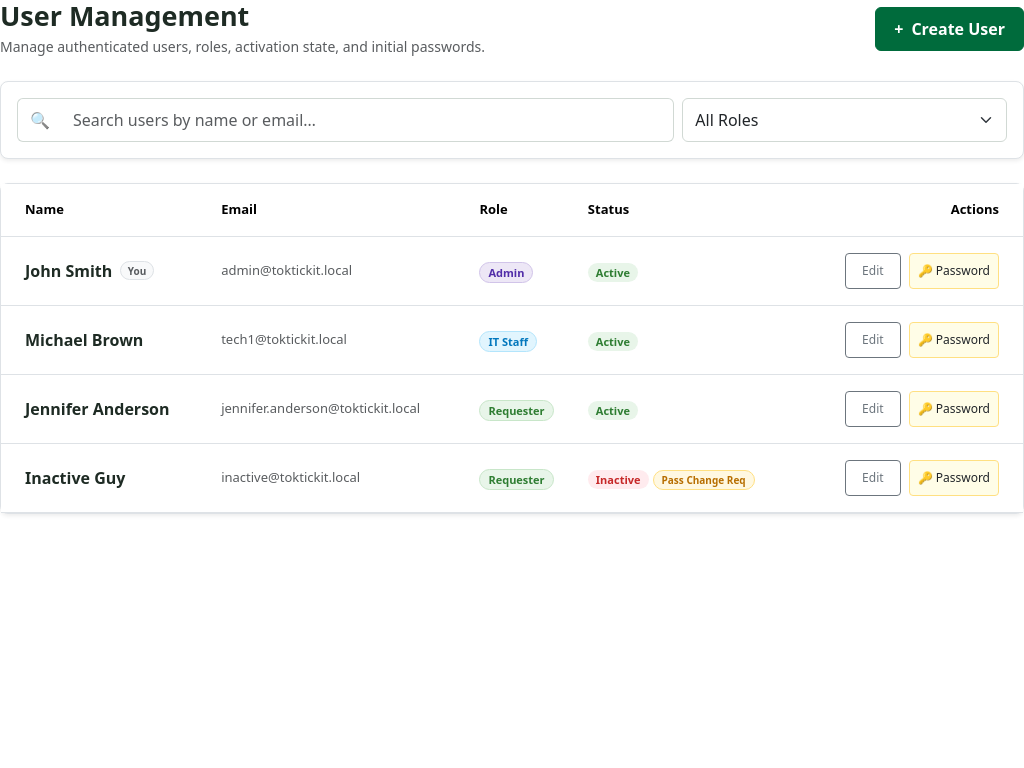
it: UI-05: Administrator User Management UI Component Tests › opens Edit User modal, updates user, and enforces self-deactivation guardrail
Expected: the text "John Smith" is shown, [25,259,112,283]
// Click Edit on John Smith (the logged-in admin)
Click the button with id "edit-user-btn-1". click: (873, 271)
box: [845,253,901,289]
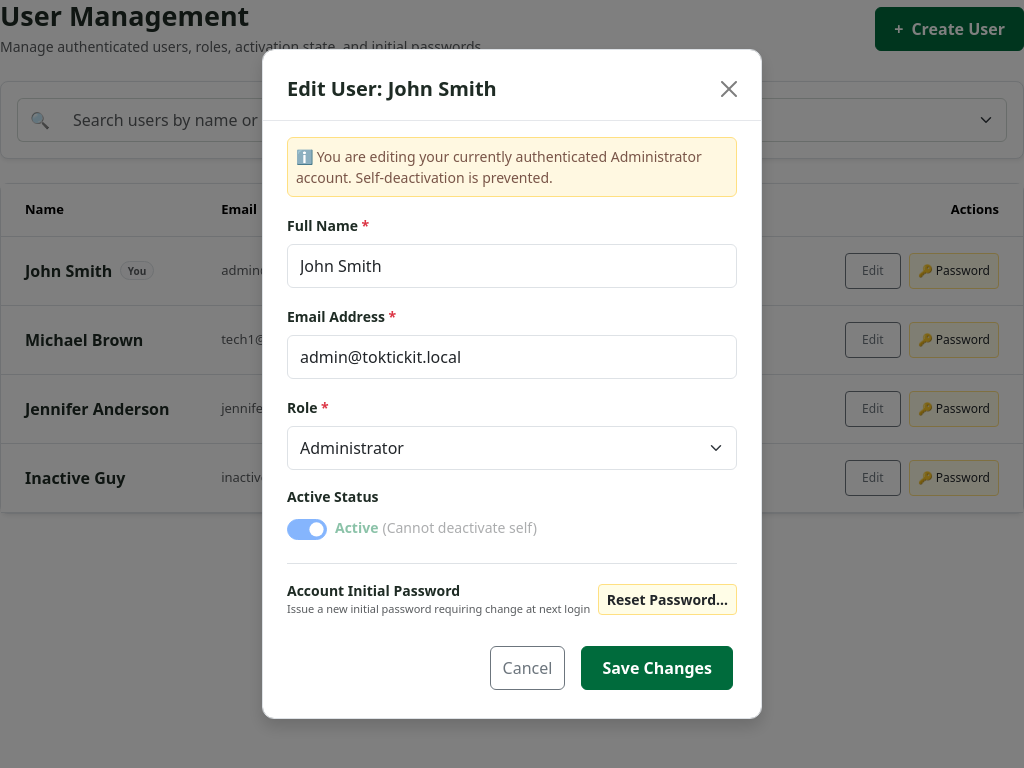
Now the heading "Edit User: John Smith" is shown, box [287,74,497,104]
Now the text "self-deactivation is prevented" is shown, box [296,147,702,187]
Now the switch is disabled, box [287,519,327,540]
// Close modal
Click the button "Cancel". click: (528, 668)
box: [490,646,565,690]
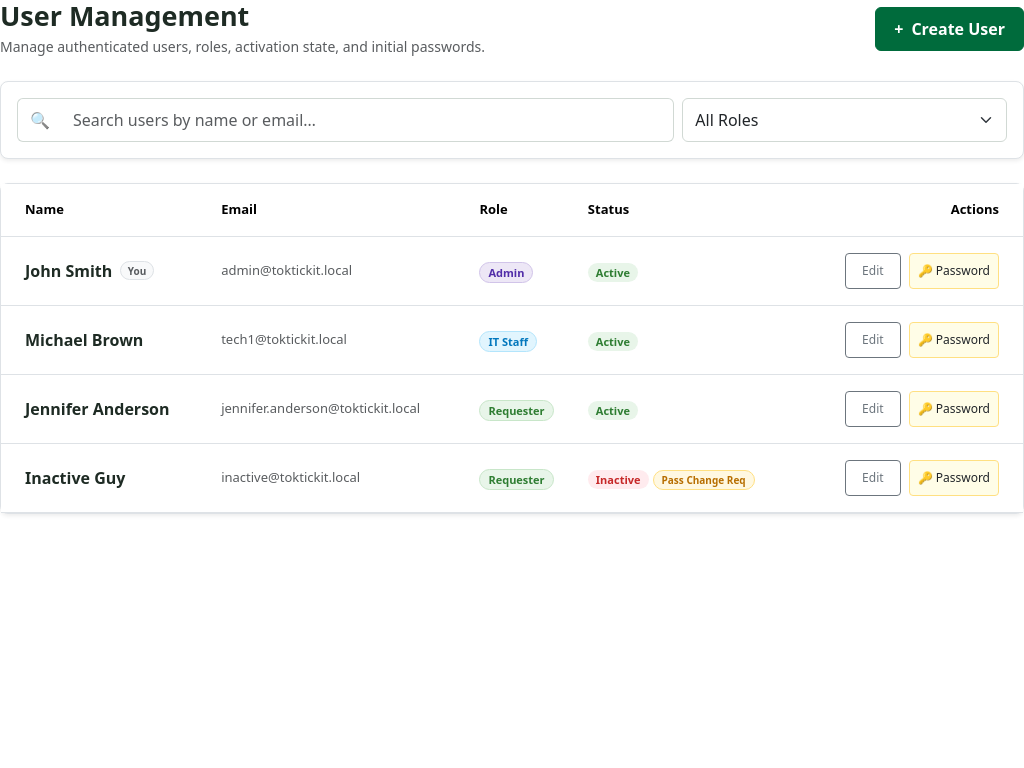
// Now edit another user (Michael Brown)
Click the button with id "edit-user-btn-2". click: (873, 340)
box: [845,322,901,358]
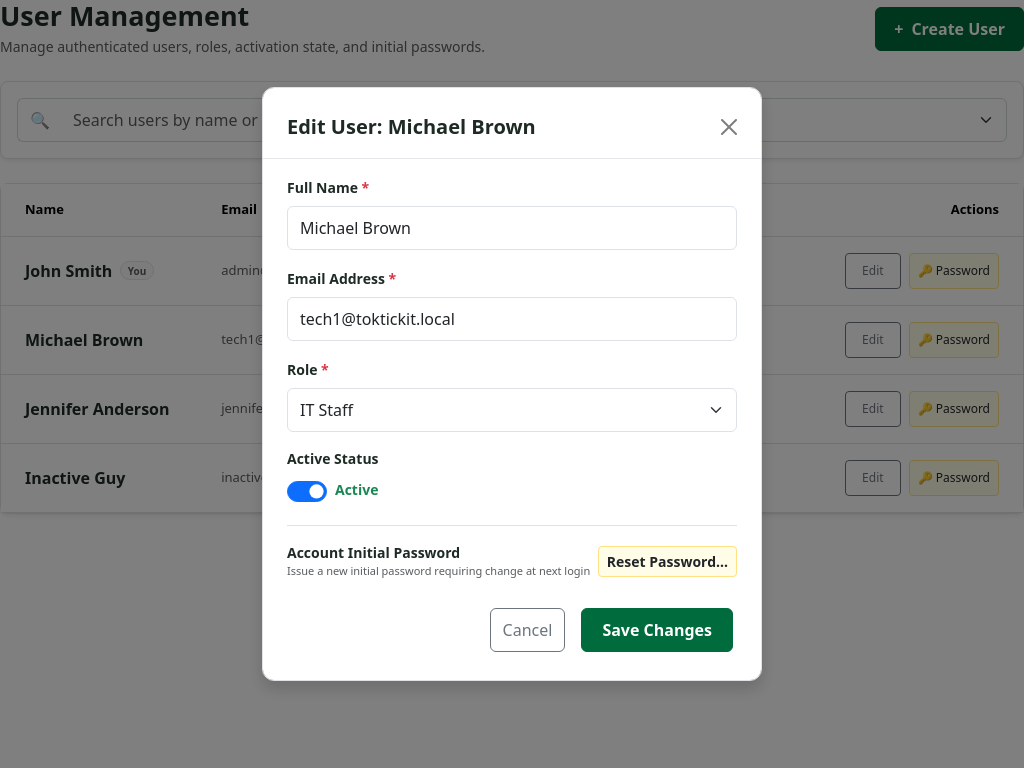
Now the heading "Edit User: Michael Brown" is shown, box [287,112,536,142]
Now the switch is enabled, box [287,481,327,502]
